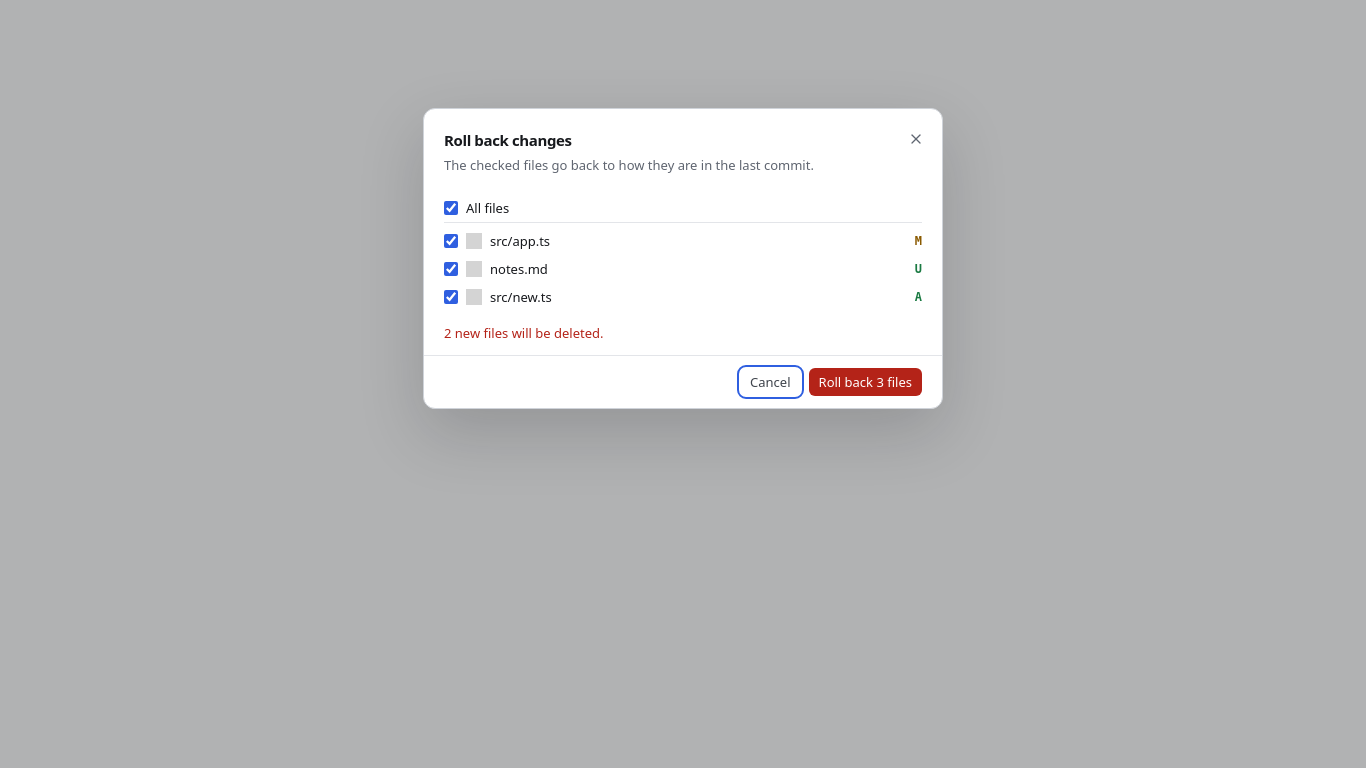
Scenario: RollbackDialog › does nothing with no file checked
Click the checkbox labelled "All files".
click(451, 208)  # box top-left (444, 201), bottom-right (458, 215)
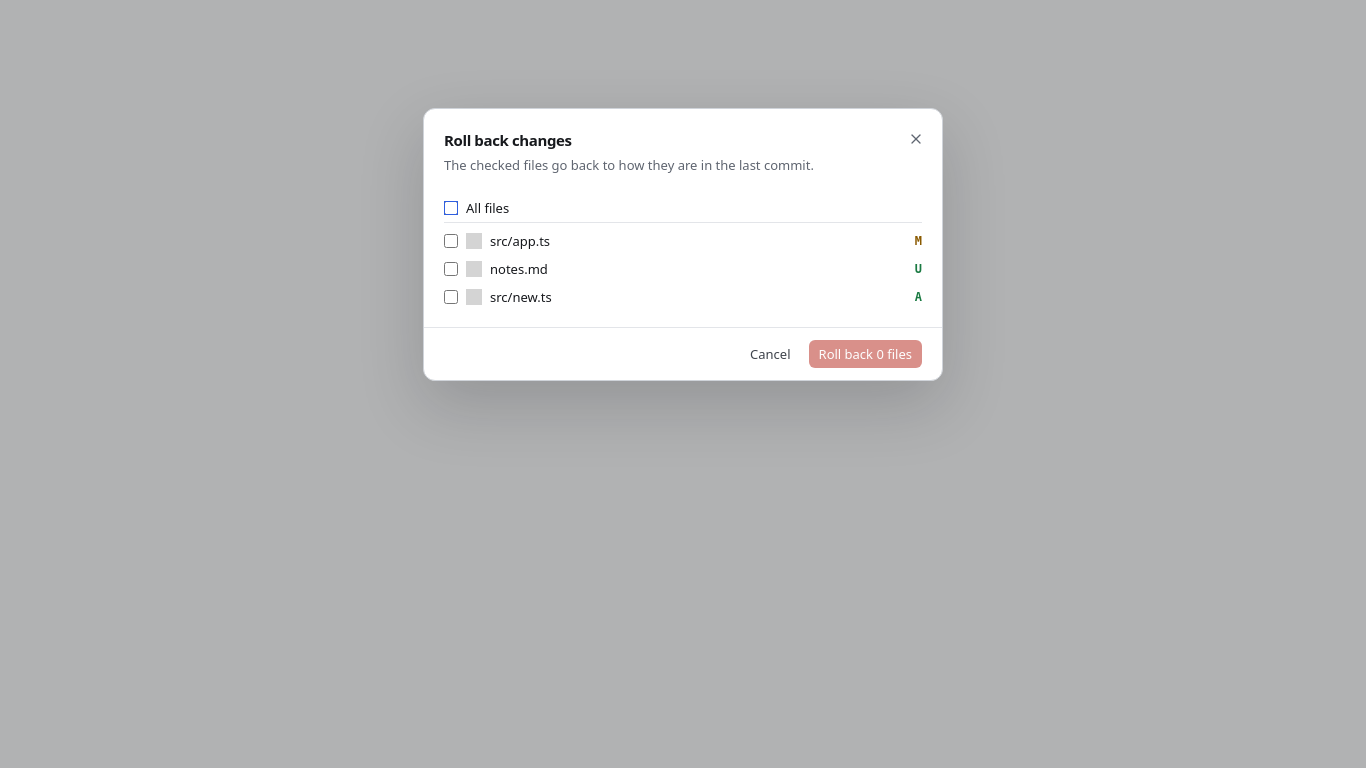
Check: the checkbox named "src/app.ts, Modified" is not checked, box top-left (444, 234), bottom-right (458, 248)
Click the button "Roll back 0 files".
click(865, 354)  # box top-left (808, 340), bottom-right (922, 368)
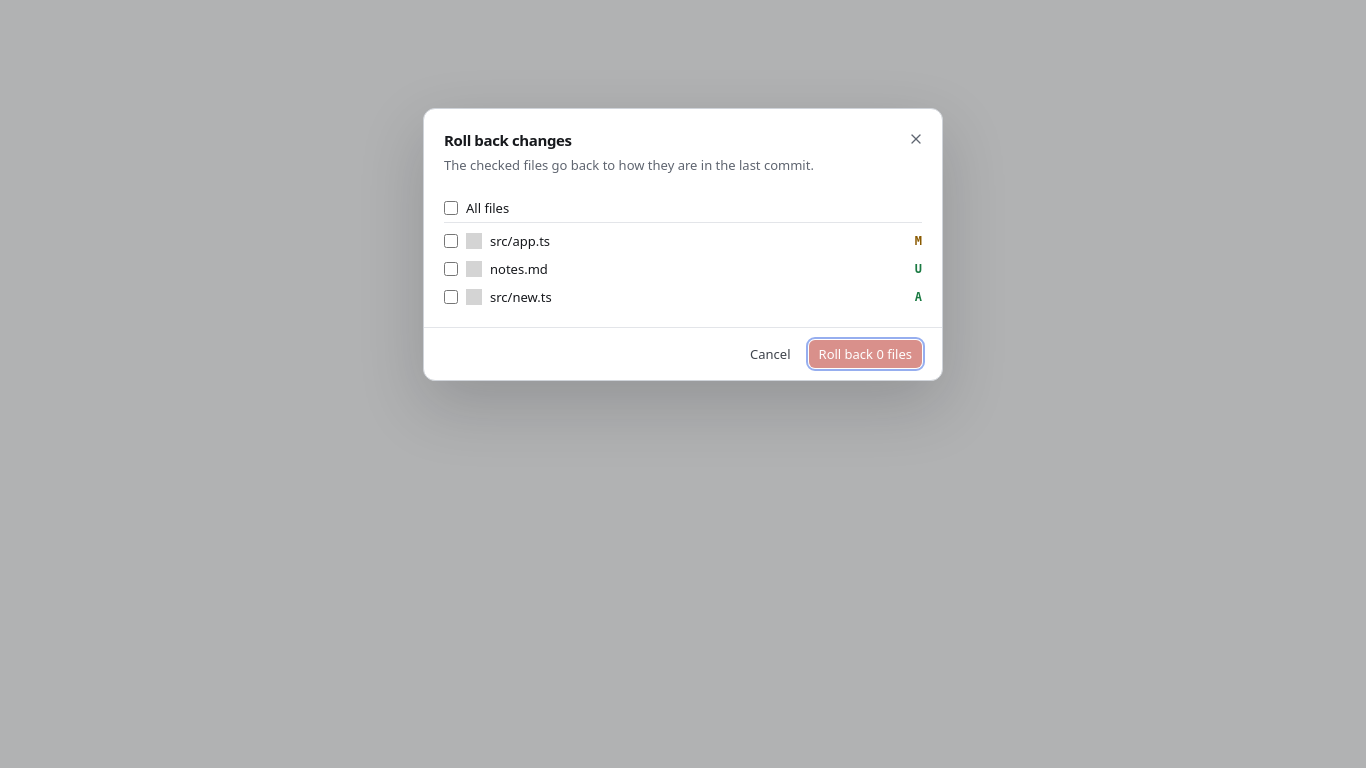
Click the checkbox labelled "All files".
click(451, 208)  # box top-left (444, 201), bottom-right (458, 215)
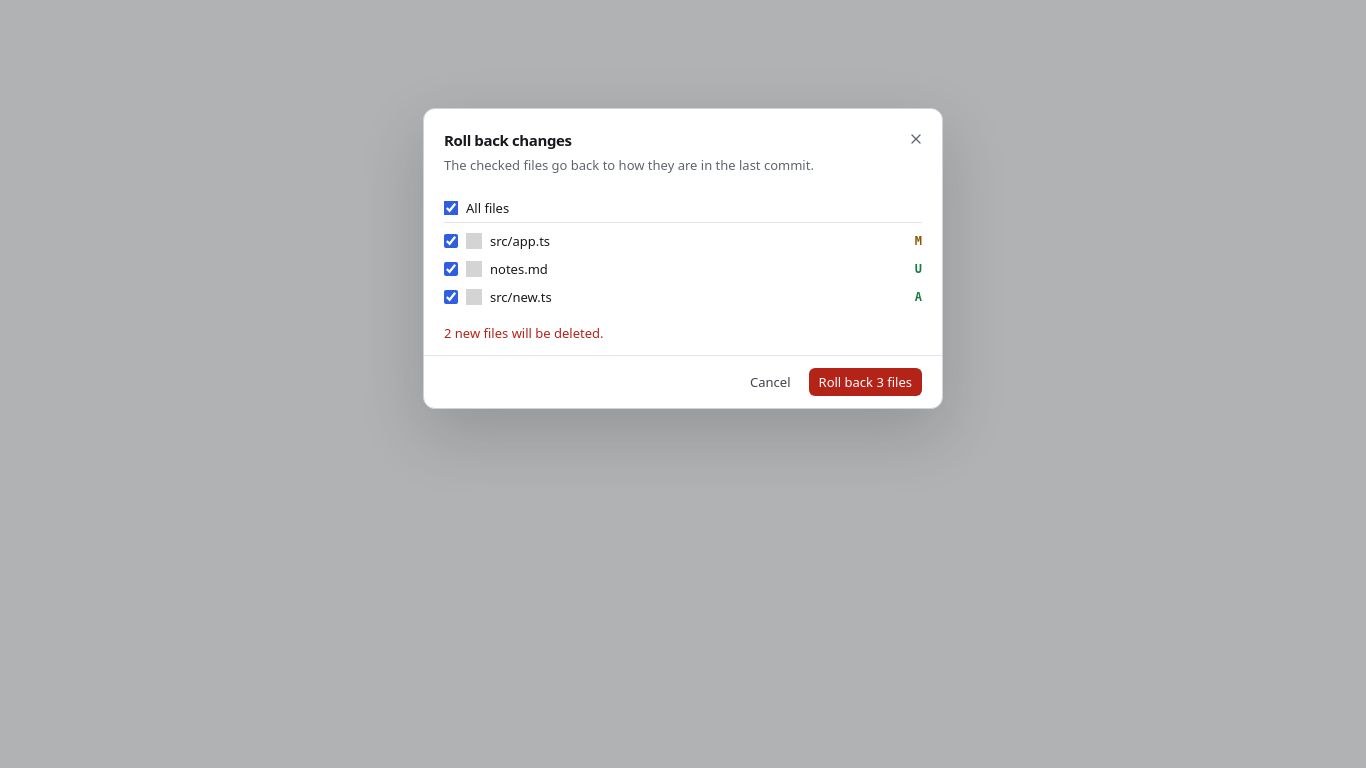
Check: the checkbox named "src/app.ts, Modified" is checked, box top-left (444, 234), bottom-right (458, 248)
